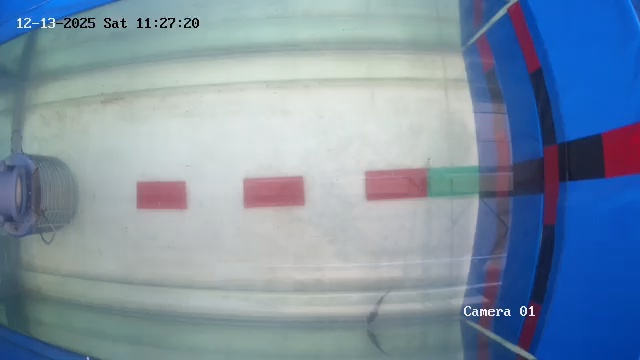fish: (349, 298, 375, 326)
